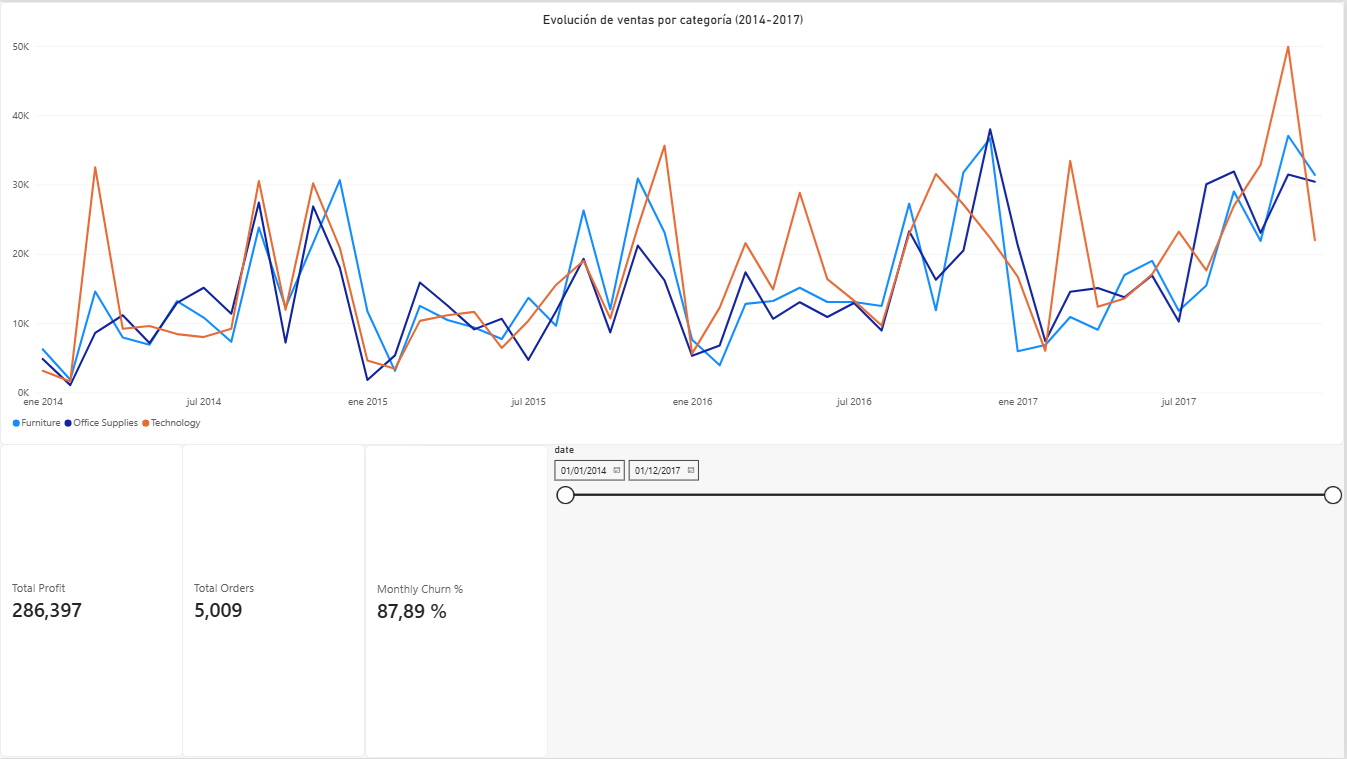

What the dashboard file says about the page in this screenshot:
{"tool":"powerbi","page":{"name":"Page 1","canvas":[1920,1080],"ordinal":0},"visuals":[{"type":"lineChart","title":"Evolución de ventas por categoría (2014-2017)","fields":{"Category":["master_query.date.Variation.Date Hierarchy.Year","master_query.date.Variation.Date Hierarchy.Month"],"Series":["master_query.category"],"Y":["Sum(master_query.monthly_sales)"]},"box":[0,0,1920.3,632.9],"z":0},{"type":"cardVisual","fields":{"Data":["master_query.Total Orders Texto"]},"box":[260,632,261.2,447.1],"z":1000},{"type":"slicer","fields":{"Values":["master_query.date"]},"box":[784,632,1136,448],"z":3001},{"type":"cardVisual","fields":{"Data":["master_query.Total Profit Texto"]},"box":[0,632,261.2,447.1],"z":3002},{"type":"cardVisual","fields":{"Data":["master_query.Monthly Churn %"]},"box":[521.1,632.9,261.2,447.1],"z":3003}]}

Visuals, with their boxes in screenshot pixels (x1, y1, x2, y2), scaled from the page's 1920x1080 canvas onto the 1347x759 screenshot:
"Evolución de ventas por categoría (2014-2017)" lineChart: bbox=[0, 0, 1346, 445]
cardVisual - master_query.Total Orders Texto: bbox=[182, 444, 366, 758]
slicer - master_query.date: bbox=[550, 444, 1346, 758]
cardVisual - master_query.Total Profit Texto: bbox=[0, 444, 183, 758]
cardVisual - master_query.Monthly Churn %: bbox=[366, 445, 549, 758]
